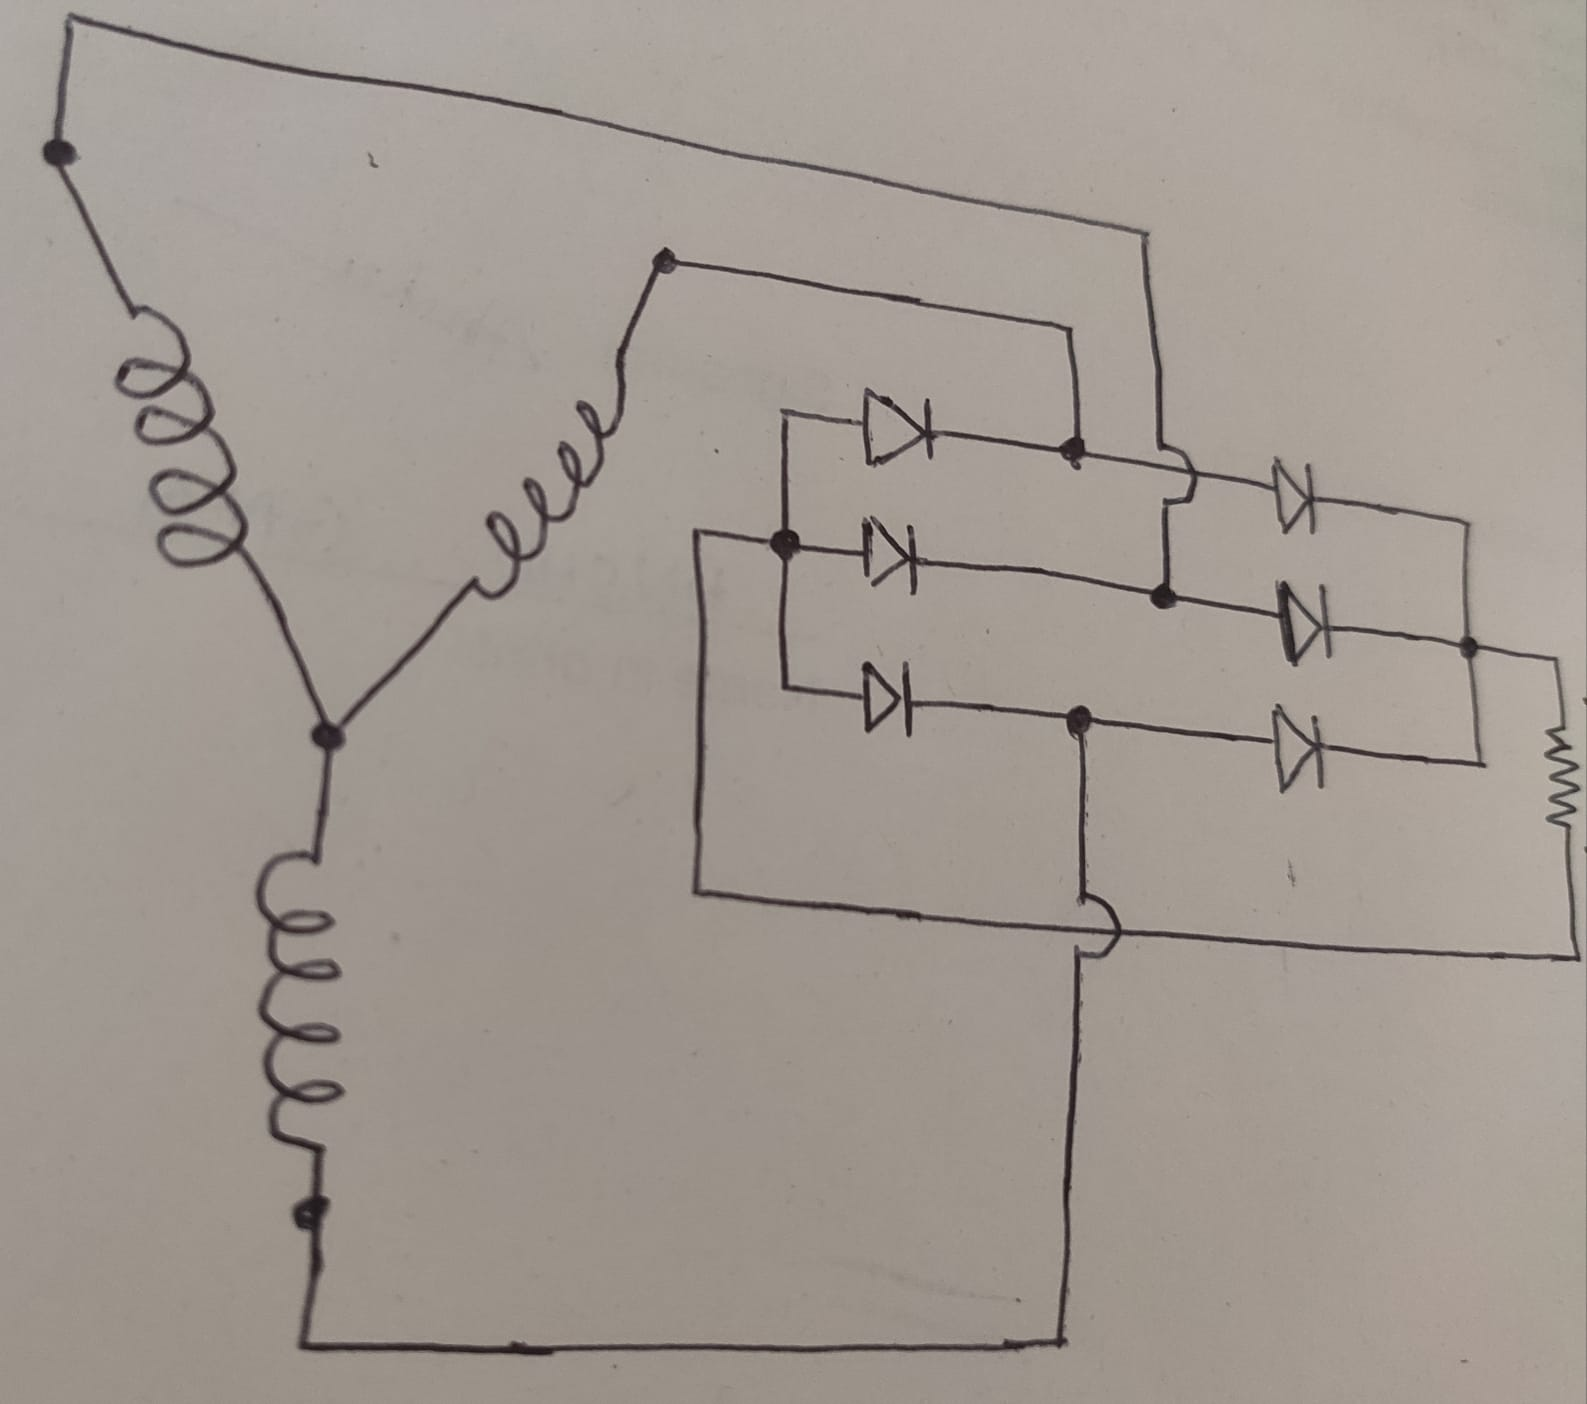crossover: (1064, 888, 1122, 964), (1155, 434, 1199, 510)
diode: (854, 388, 939, 468), (1260, 706, 1328, 796), (855, 515, 924, 594), (1277, 581, 1338, 664), (854, 661, 919, 736), (1263, 455, 1321, 537)
inductor: (468, 360, 630, 600), (121, 304, 249, 564), (253, 840, 346, 1155)
junction: (763, 522, 813, 571), (306, 711, 358, 758), (37, 127, 85, 175), (291, 1189, 333, 1240), (1061, 701, 1100, 748), (54, 1, 96, 45), (1052, 428, 1094, 470), (1142, 572, 1183, 613), (645, 239, 684, 281), (1044, 1323, 1080, 1363), (285, 1325, 323, 1362), (1447, 627, 1488, 661), (682, 871, 716, 911), (768, 669, 802, 699), (770, 398, 800, 430), (684, 518, 712, 550), (1129, 221, 1159, 249), (1468, 749, 1493, 781), (1053, 314, 1079, 343), (1451, 511, 1477, 538), (1563, 942, 1586, 972), (1544, 646, 1567, 672)
resistor: (1540, 711, 1586, 831)
